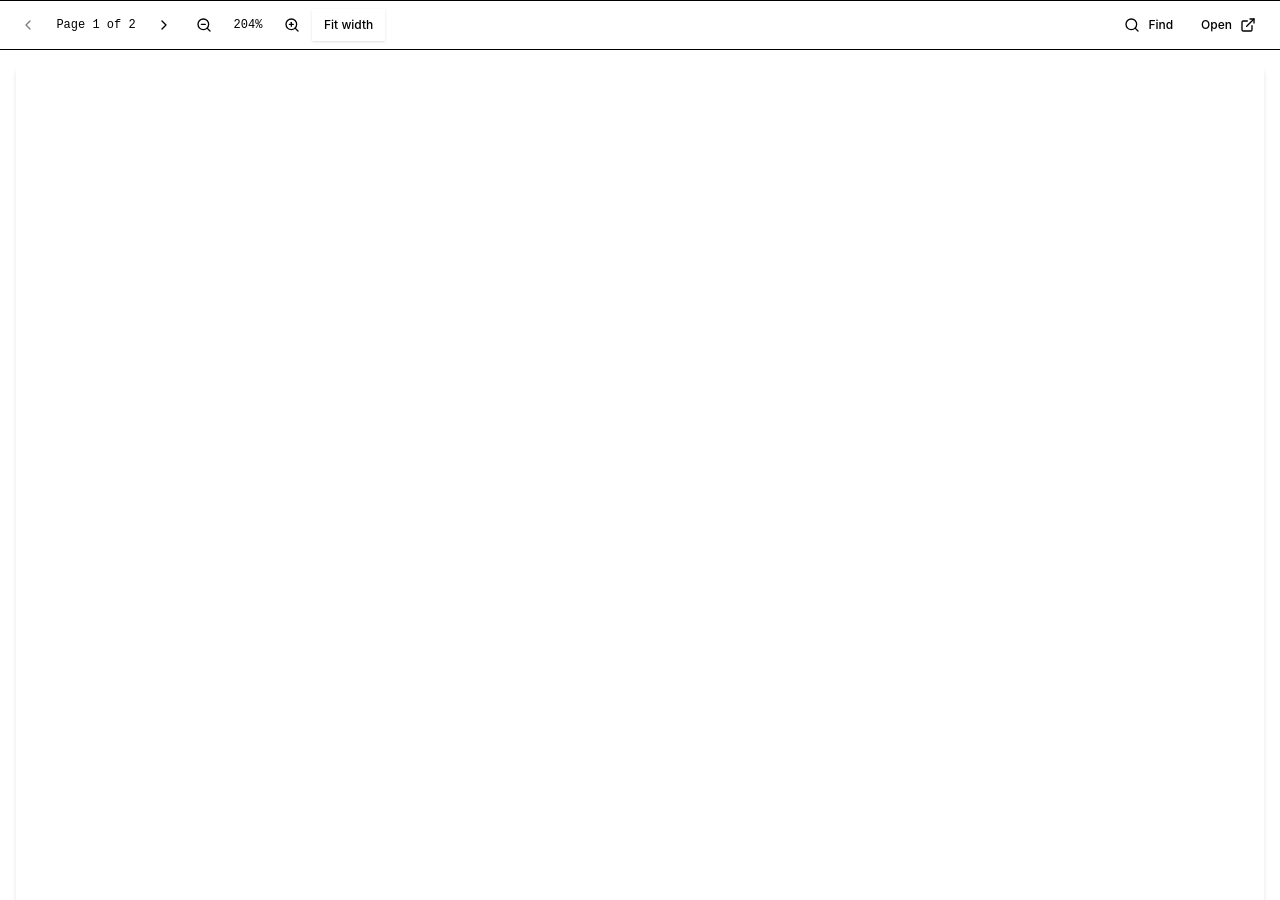
Test: the viewer › steps through the pages and stops at both ends
The image size is (1280, 900).
Expected: the text "Page 1 of 2" is shown, [56,18,136,32]
Click the button named "Next page": [164, 25] box [148,9,180,41]
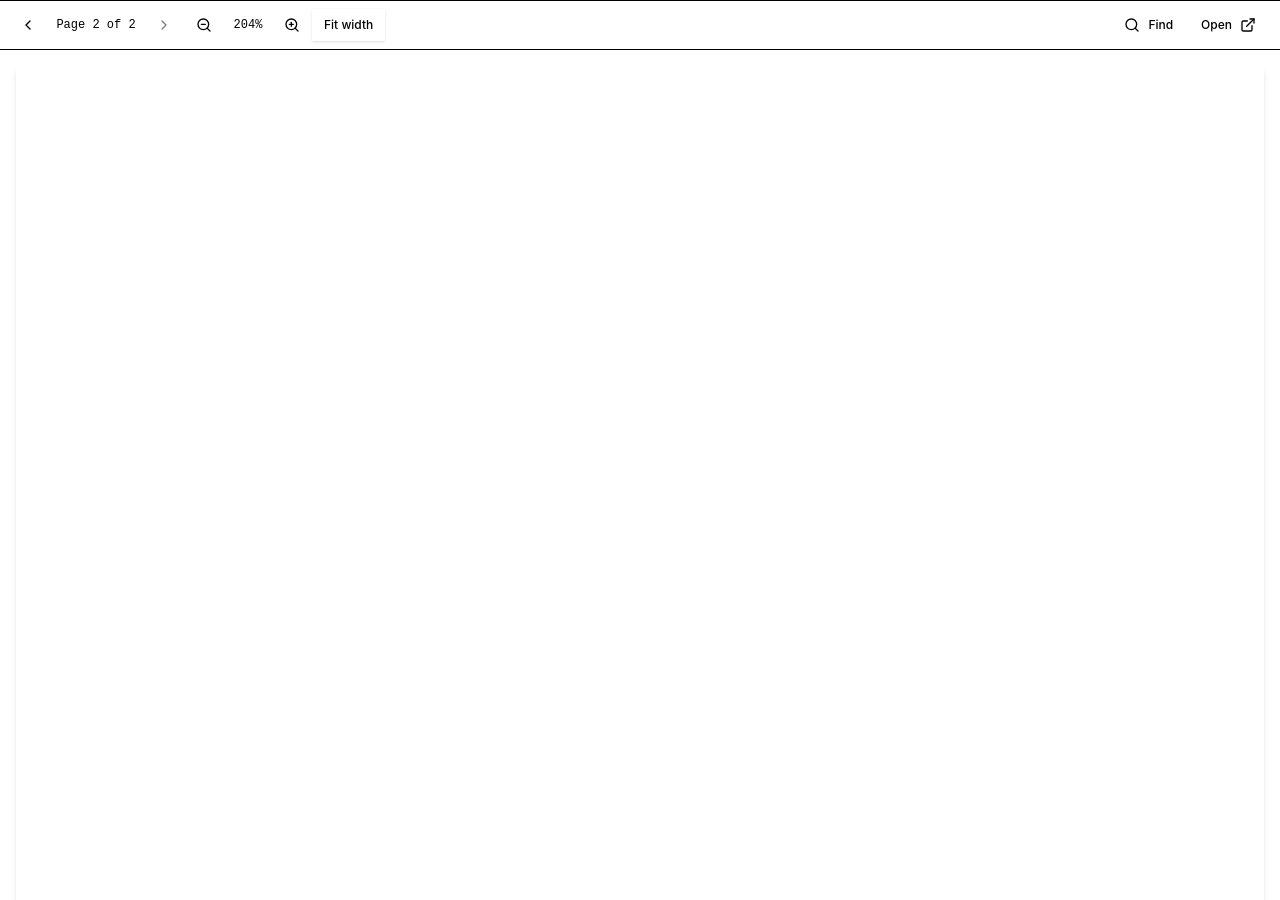
Result: the text "Page 2 of 2" is shown at [56,18,136,32]
Click the button named "Previous page": [28, 25] box [12,9,44,41]
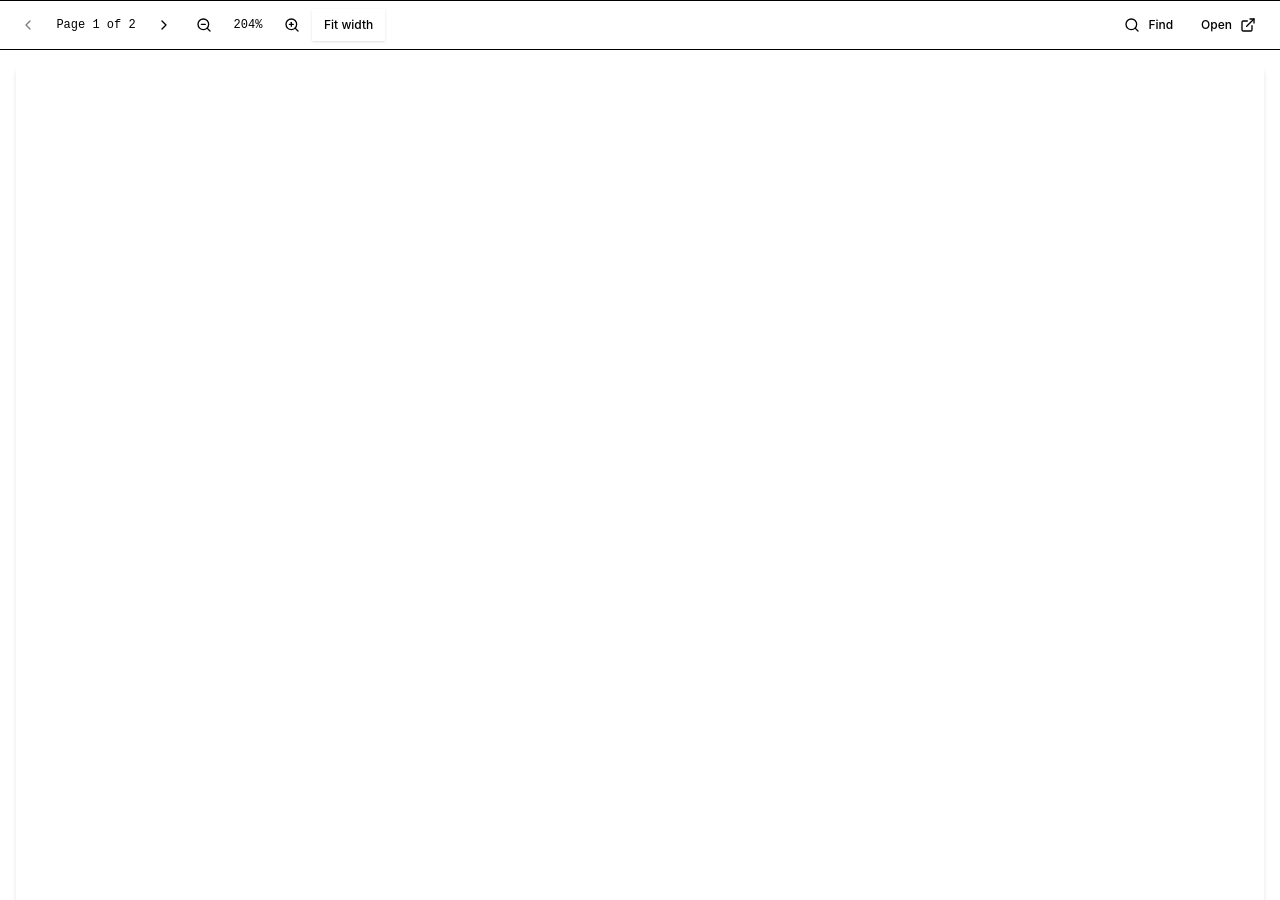
Result: the text "Page 1 of 2" is shown at [56,18,136,32]
